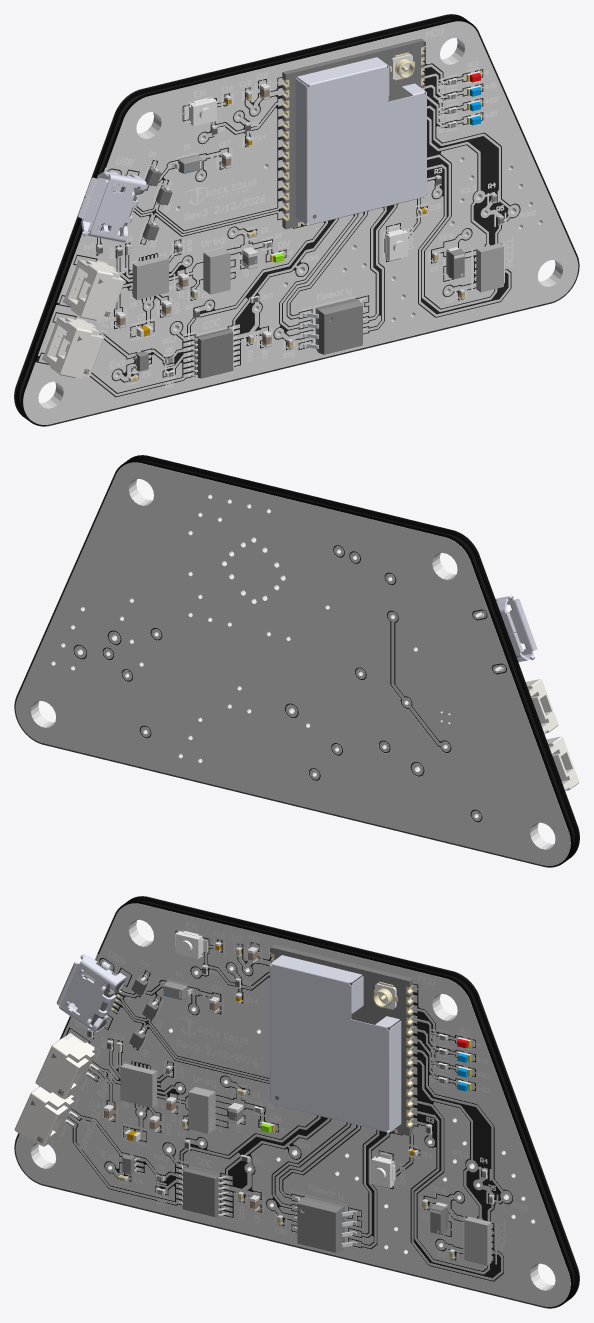
File: Smart_Pick.glb
The picture shows the model from 3 angles, top to bottom: view 1: azimuth 30°, elevation 25°; view 2: azimuth 150°, elevation 25°; view 3: azimuth 330°, elevation 25°; orthographic projection.
Visible parts, largest first — view 1: Node242, Node281, Node3, Node1, Node285, Node282, Node2, Node91, Node238, Node151, Node247, Node137 (+17 smaller); view 2: Node242, Node283, Node282, Node91, Node281, Node247, Node151, Node238, Node280, Node248, Node285; view 3: Node242, Node281, Node3, Node1, Node285, Node282, Node2, Node91, Node151, Node137, Node247, Node238 (+17 smaller).
Part boxes in pixels (bbox=[...]): Node242: bbox=[23, 21, 578, 424]; Node281: bbox=[20, 19, 579, 426]; Node3: bbox=[295, 57, 426, 225]; Node1: bbox=[44, 27, 535, 388]; Node285: bbox=[20, 20, 518, 396]; Node282: bbox=[15, 15, 471, 420]; Node2: bbox=[282, 38, 424, 229]; Node91: bbox=[78, 171, 146, 242]; Node238: bbox=[43, 318, 103, 378]; Node151: bbox=[64, 260, 124, 320]; Node247: bbox=[112, 89, 501, 381]; Node137: bbox=[315, 298, 362, 354]; Node242: bbox=[15, 462, 570, 865]; Node283: bbox=[14, 460, 573, 867]; Node282: bbox=[122, 456, 578, 861]; Node91: bbox=[482, 595, 537, 667]; Node281: bbox=[127, 455, 579, 857]; Node247: bbox=[103, 546, 481, 821]; Node151: bbox=[525, 679, 558, 733]; Node238: bbox=[546, 736, 579, 790]; Node280: bbox=[134, 455, 579, 853]; Node248: bbox=[388, 611, 450, 751]; Node285: bbox=[75, 461, 573, 838]; Node242: bbox=[15, 903, 570, 1306]; Node281: bbox=[14, 901, 573, 1308]; Node3: bbox=[269, 955, 401, 1132]; Node1: bbox=[59, 921, 528, 1264]; Node285: bbox=[79, 902, 573, 1280]; Node282: bbox=[122, 897, 578, 1302]; Node2: bbox=[271, 945, 413, 1135]; Node91: bbox=[56, 954, 126, 1033]; Node151: bbox=[35, 1036, 94, 1099]; Node137: bbox=[297, 1197, 344, 1252]; Node247: bbox=[105, 956, 494, 1253]; Node238: bbox=[14, 1086, 74, 1146].
Size of the model in its own units: 7.24 by 3.81 by 0.6105.
